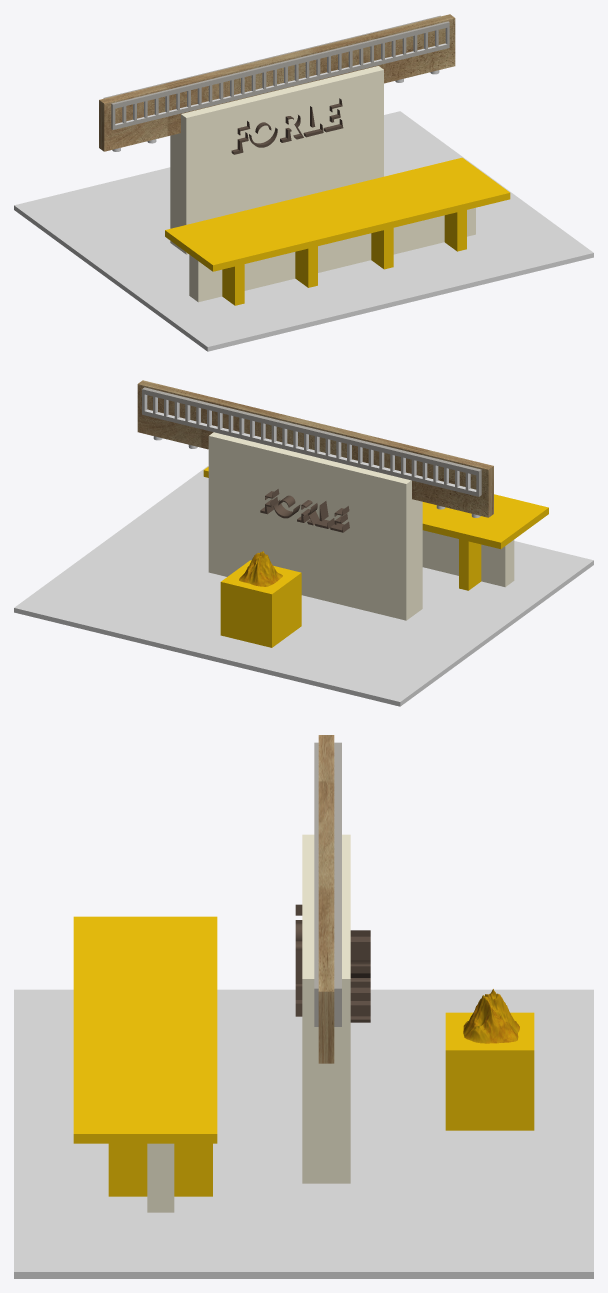
The model's file is demo-stand-3d.glb.
The picture shows the model from 3 angles, top to bottom: view 1: azimuth 30°, elevation 25°; view 2: azimuth 150°, elevation 25°; view 3: azimuth 270°, elevation 25°; orthographic projection. The views are drawn at different scales.
Visible parts, largest first — view 1: Cube.1 (×4), Cube, Cube.3, Cube.2, logo-forle, Cube.5, Cube.7, Cube.6, Cube.4; view 2: Cube.1 (×3), Cube, Cube.8, Cube.3, Cube.2, logo-forle.1, Cube.6, Landscape; view 3: Cube.1 (×4), Cube.3, Cube, Cube.8, Cube.4, Landscape, Cube.2, logo-forle.1, logo-forle.
Part boxes in pixels (left/top/right/bottom): Cube.1 (×4): left=14, top=14, right=593, bottom=351; Cube: left=170, top=66, right=383, bottom=254; Cube.3: left=165, top=157, right=510, bottom=271; Cube.2: left=189, top=207, right=475, bottom=302; logo-forle: left=231, top=98, right=343, bottom=154; Cube.5: left=371, top=228, right=393, bottom=269; Cube.7: left=295, top=246, right=317, bottom=287; Cube.6: left=222, top=264, right=244, bottom=305; Cube.4: left=444, top=210, right=466, bottom=251; Cube.1 (×3): left=14, top=380, right=593, bottom=706; Cube: left=208, top=432, right=422, bottom=620; Cube.8: left=220, top=560, right=301, bottom=647; Cube.3: left=203, top=466, right=548, bottom=549; Cube.2: left=422, top=530, right=514, bottom=587; logo-forle.1: left=260, top=489, right=349, bottom=532; Cube.6: left=459, top=539, right=481, bottom=590; Landscape: left=239, top=551, right=282, bottom=586; Cube.1 (×4): left=14, top=735, right=593, bottom=1278; Cube.3: left=73, top=916, right=217, bottom=1143; Cube: left=302, top=834, right=350, bottom=1183; Cube.8: left=445, top=1012, right=534, bottom=1130; Cube.4: left=108, top=1143, right=212, bottom=1196; Landscape: left=463, top=989, right=519, bottom=1043; Cube.2: left=147, top=1143, right=174, bottom=1212; logo-forle.1: left=350, top=930, right=370, bottom=1022; logo-forle: left=295, top=904, right=302, bottom=1016.
Bounding box in the file's own units: 6457 × 2767 × 5584.
Materials: 6 (2 with a texture image).
